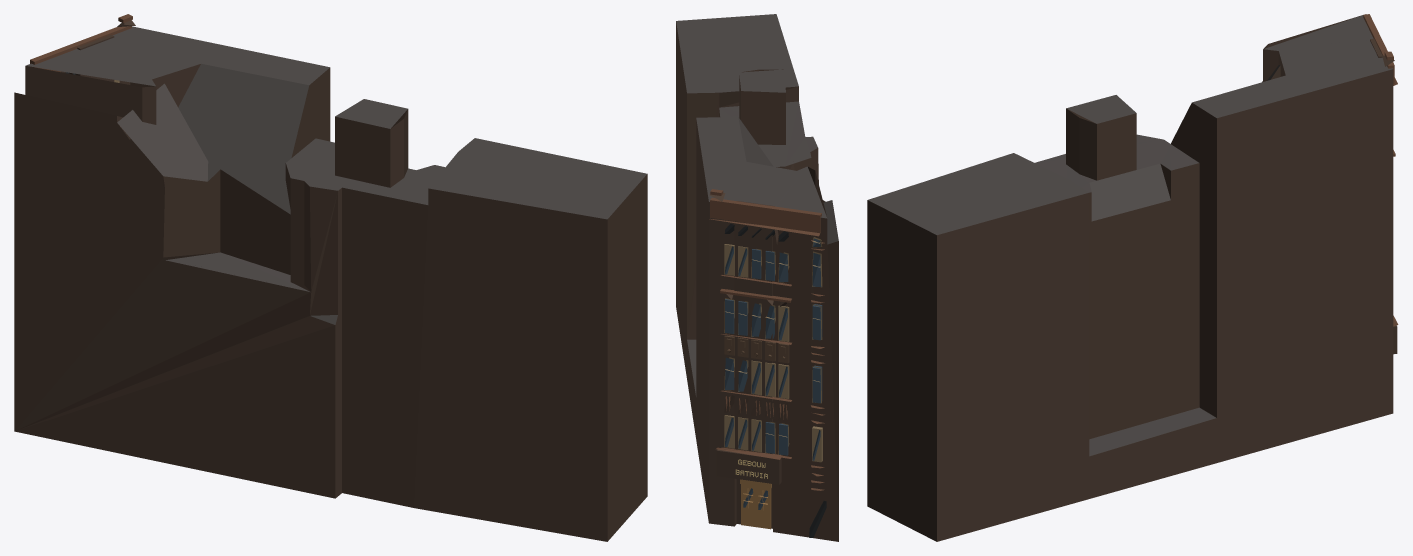
The model's file is batavia-prins-hendrikkade.lod1.glb.
3 renders of one model, left to right at view 1: azimuth 30°, elevation 25°; view 2: azimuth 150°, elevation 25°; view 3: azimuth 270°, elevation 25°, orthographic. The views are drawn at different scales.
Visible parts, largest first — view 1: batavia-prins-hendrikkade; view 2: batavia-prins-hendrikkade; view 3: batavia-prins-hendrikkade.
Boxes of the visible parts, x1,y1,x2,y2 form: batavia-prins-hendrikkade: (14, 14, 647, 541); batavia-prins-hendrikkade: (676, 14, 838, 541); batavia-prins-hendrikkade: (867, 14, 1398, 541).
Bounding box in the file's own units: 25.26 × 22.15 × 29.95.
